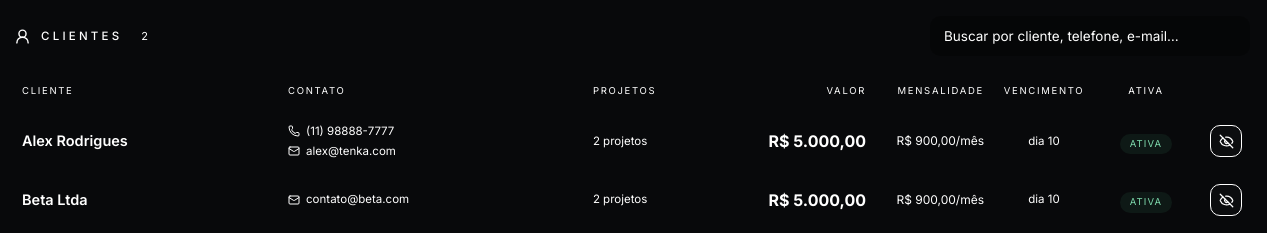
Test: LeadsView › filtra pela busca de nome, telefone ou e-mail
Check: the text "Beta Ltda" is shown, box [22,191,88,208]
Type "beta.com" into the search field named "Buscar clientes" at (1090, 36), box [930,16,1250,56]
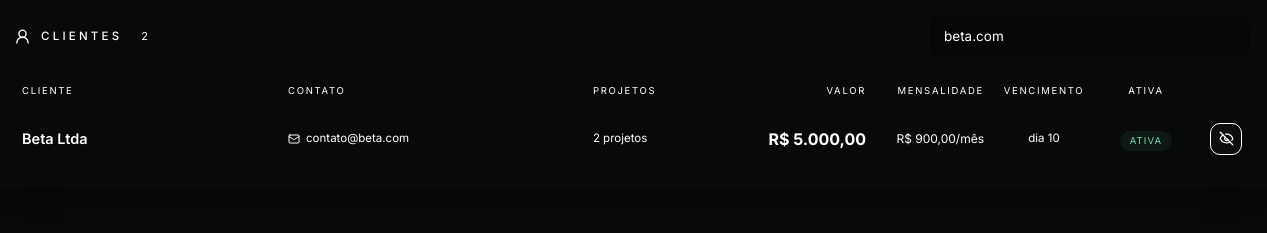
Check: the text "Beta Ltda" is shown, box [22,130,88,147]
Check: the button "Alex Rodrigues" is gone
